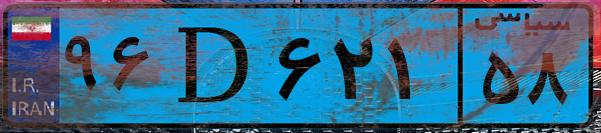1: (385, 28, 445, 110)
2: (330, 28, 385, 110)
5: (475, 38, 525, 113)
6: (270, 28, 330, 110), (110, 28, 158, 98)
8: (525, 38, 570, 115)
9: (57, 26, 110, 100)
D: (158, 12, 270, 120)
